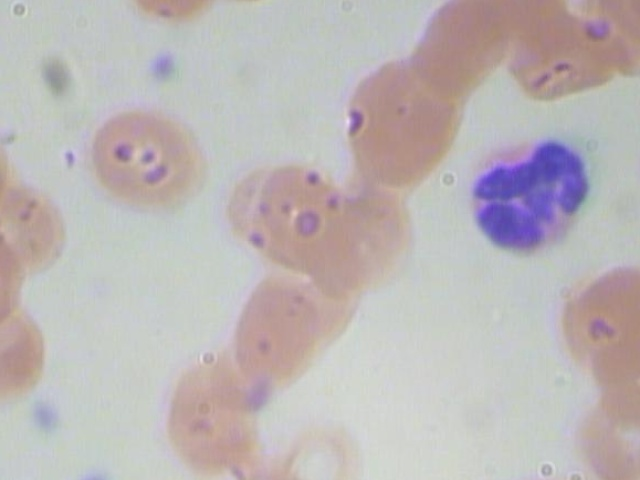Platelets: (136, 44, 182, 88), (21, 394, 67, 437), (68, 467, 114, 480), (634, 217, 640, 261)
RBC: (343, 48, 468, 196), (74, 103, 206, 217), (210, 274, 342, 388), (162, 356, 262, 477), (309, 182, 415, 289), (248, 164, 354, 271), (547, 262, 640, 376), (547, 334, 640, 448), (249, 403, 382, 480), (489, 466, 594, 480)
WBC: (465, 129, 601, 265)
